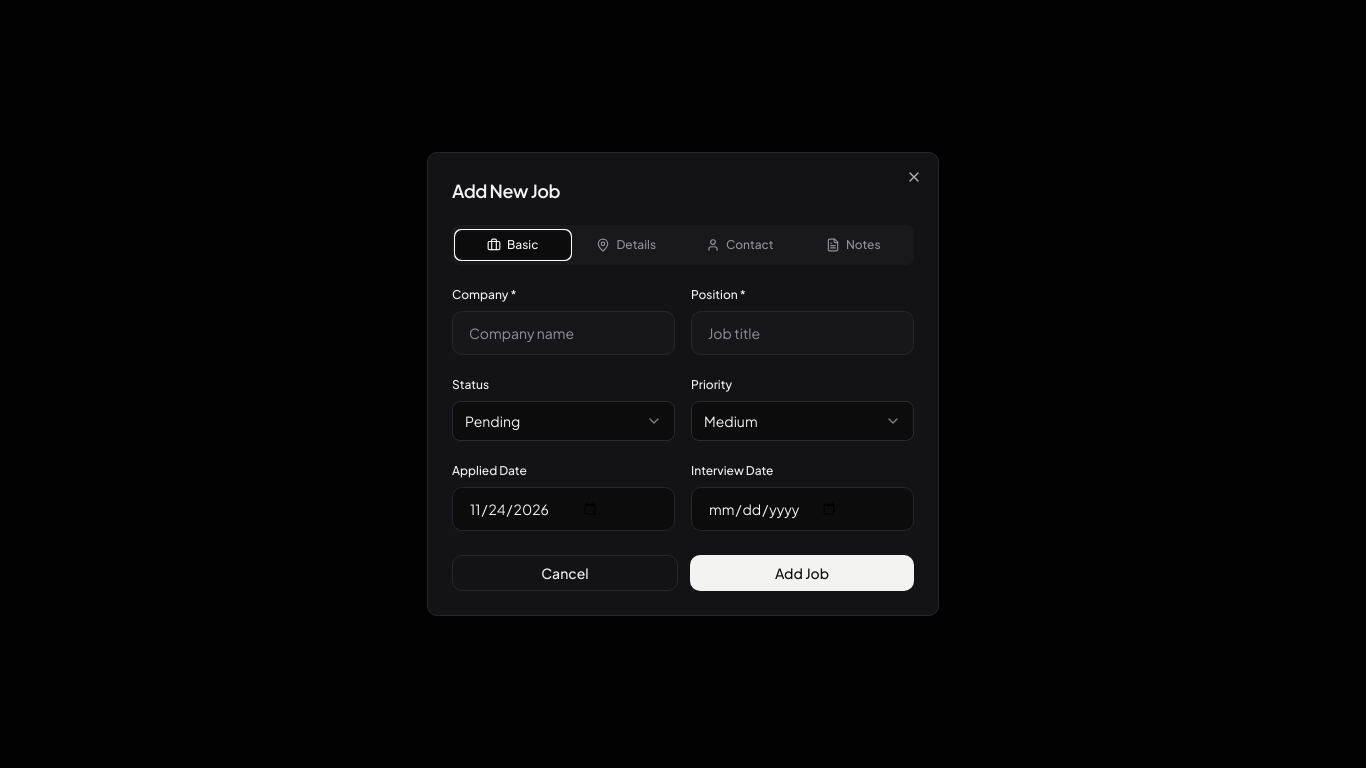
Test case: JobModal › validates required fields via Zod before submitting
This screenshot has width=1366, height=768.
Click the button "Add Job": (802,573) [690, 555, 914, 591]
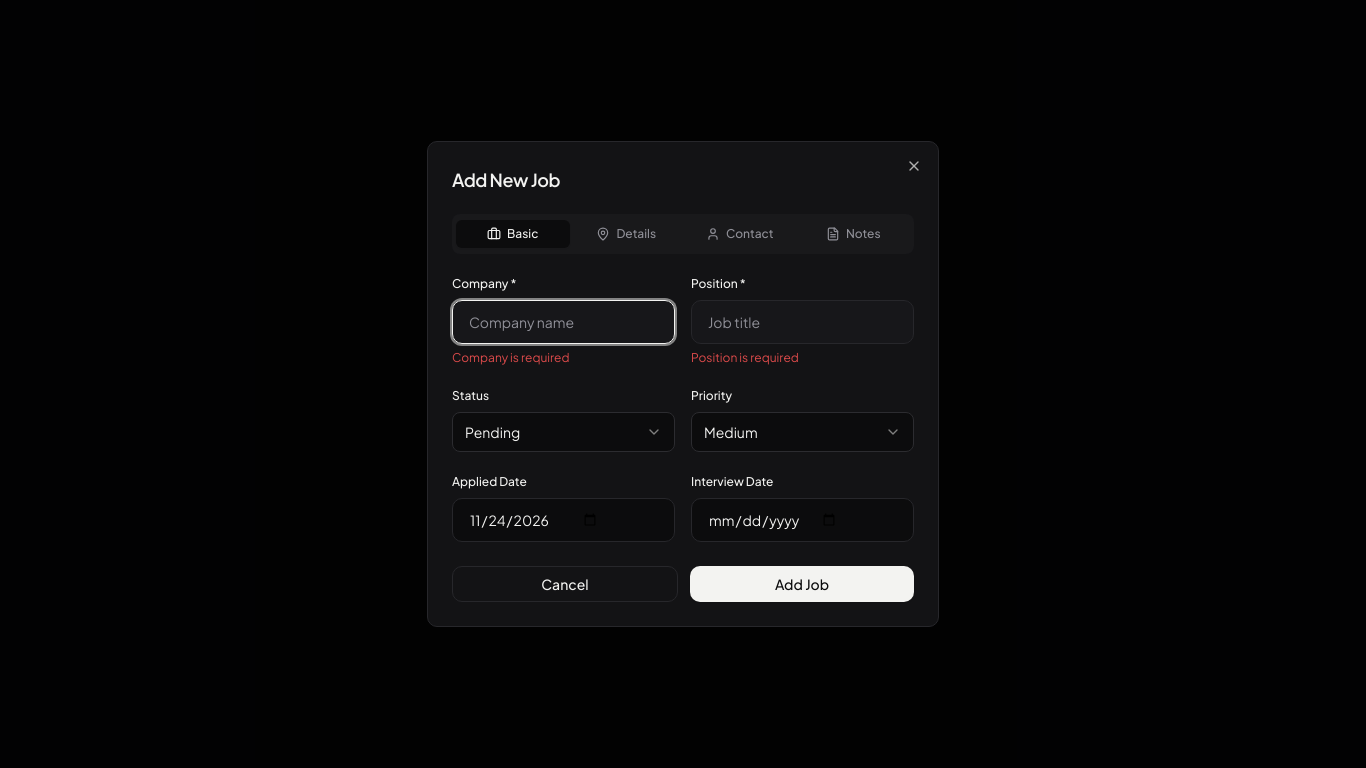
Check: the text "Company is required" is shown, box [452, 350, 570, 365]
Check: the text "Position is required" is shown, box [691, 350, 799, 365]
